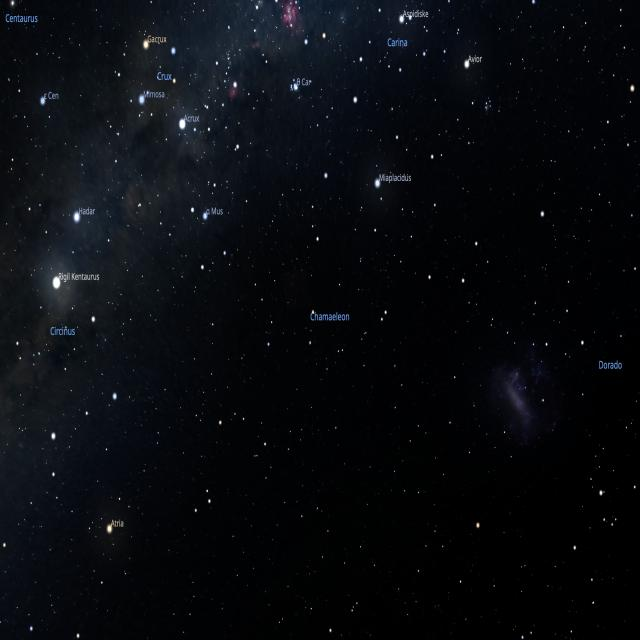Chamaeleon: (260, 298, 394, 354)
